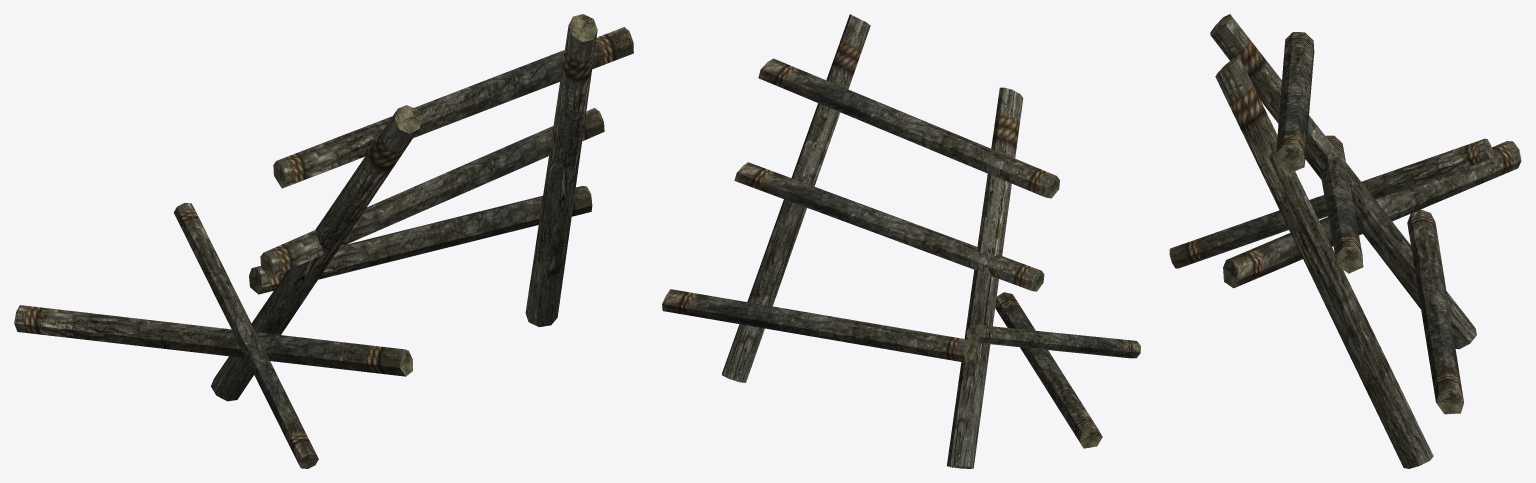
Rendered from camp_woodhut_break01.fbx.
3 renders of one model, left to right at view 1: azimuth 30°, elevation 25°; view 2: azimuth 150°, elevation 25°; view 3: azimuth 270°, elevation 25°, orthographic. The views are drawn at different scales.
Visible parts, largest first — view 1: camp_woodhut_break01; view 2: camp_woodhut_break01; view 3: camp_woodhut_break01.
Part boxes in pixels (box(x1,y1,x2,y2)): camp_woodhut_break01: box(14, 14, 633, 468); camp_woodhut_break01: box(662, 14, 1140, 468); camp_woodhut_break01: box(1169, 14, 1521, 468).
Bounding box in the file's own units: 6.67 × 4.72 × 3.73.
